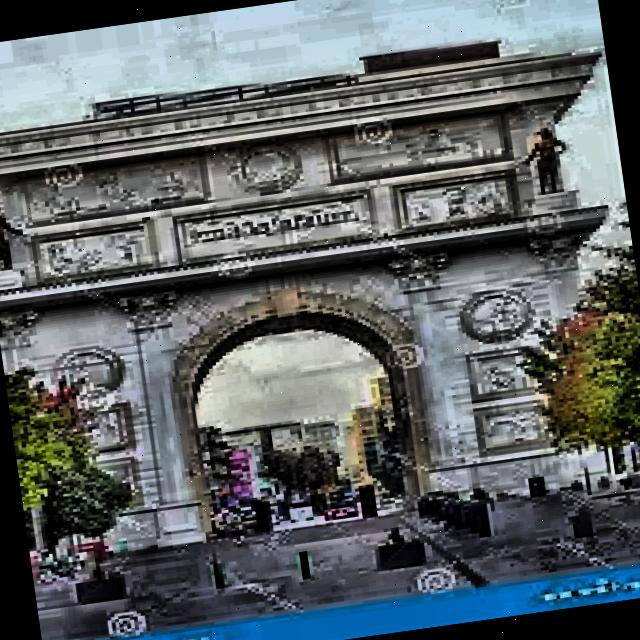triumphal arch: (0, 29, 640, 573)
